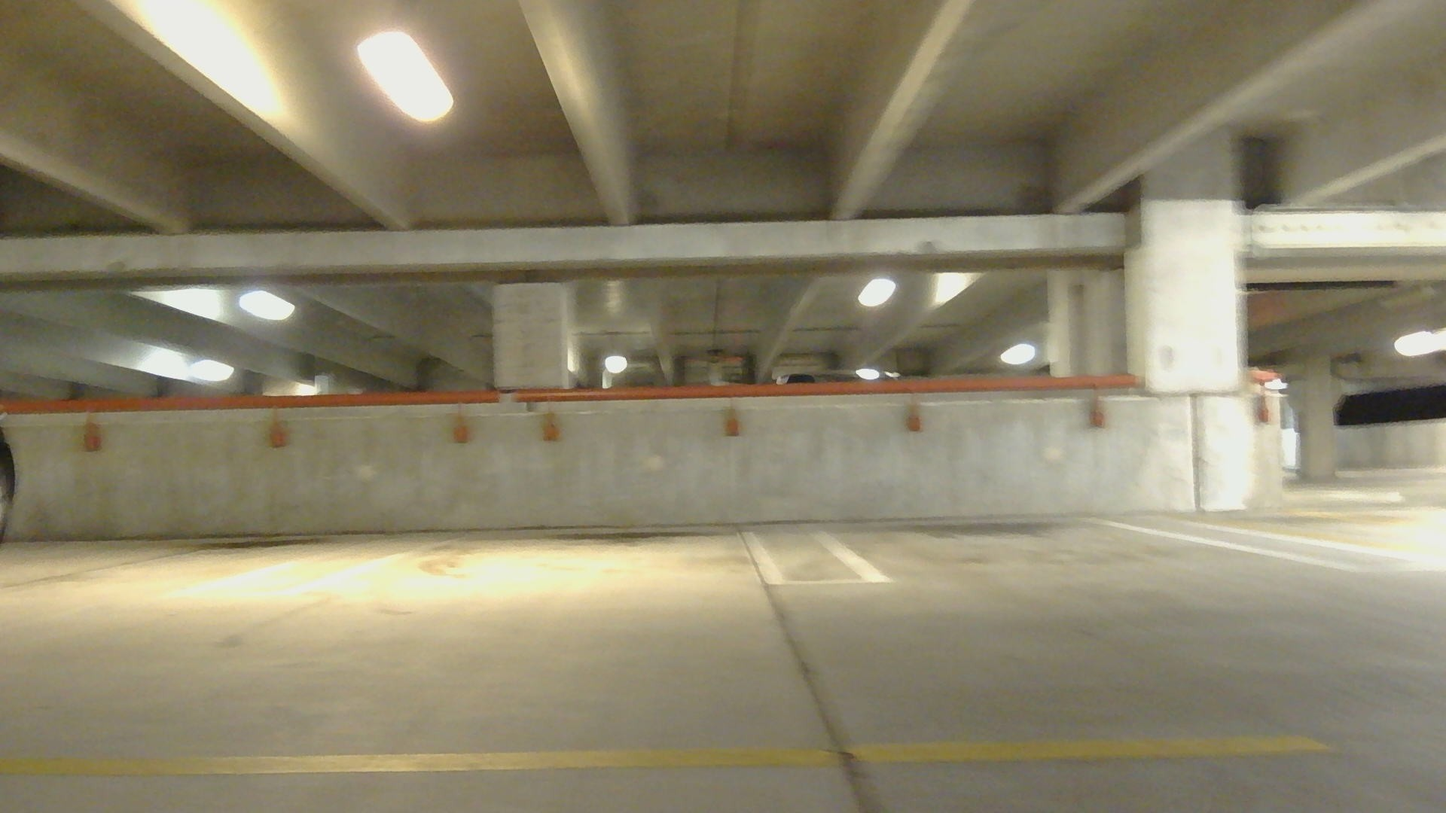empty_spot: (786, 442, 1384, 588), (263, 452, 792, 599), (0, 448, 394, 615)
